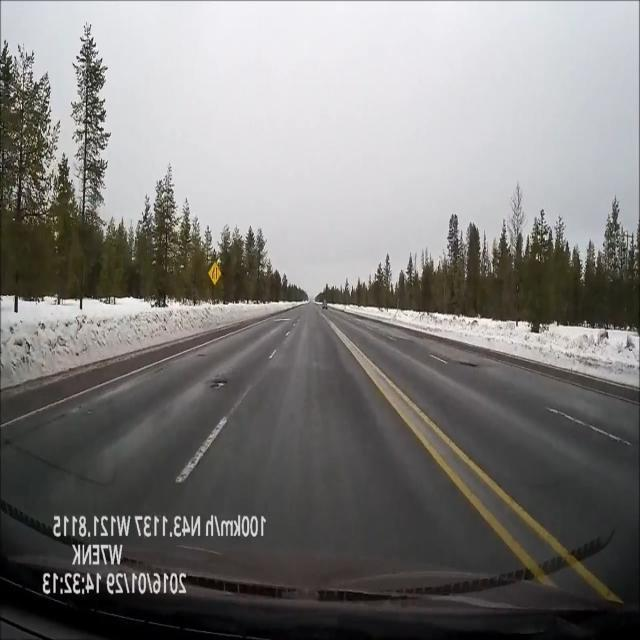pothole: (206, 367, 232, 398)
